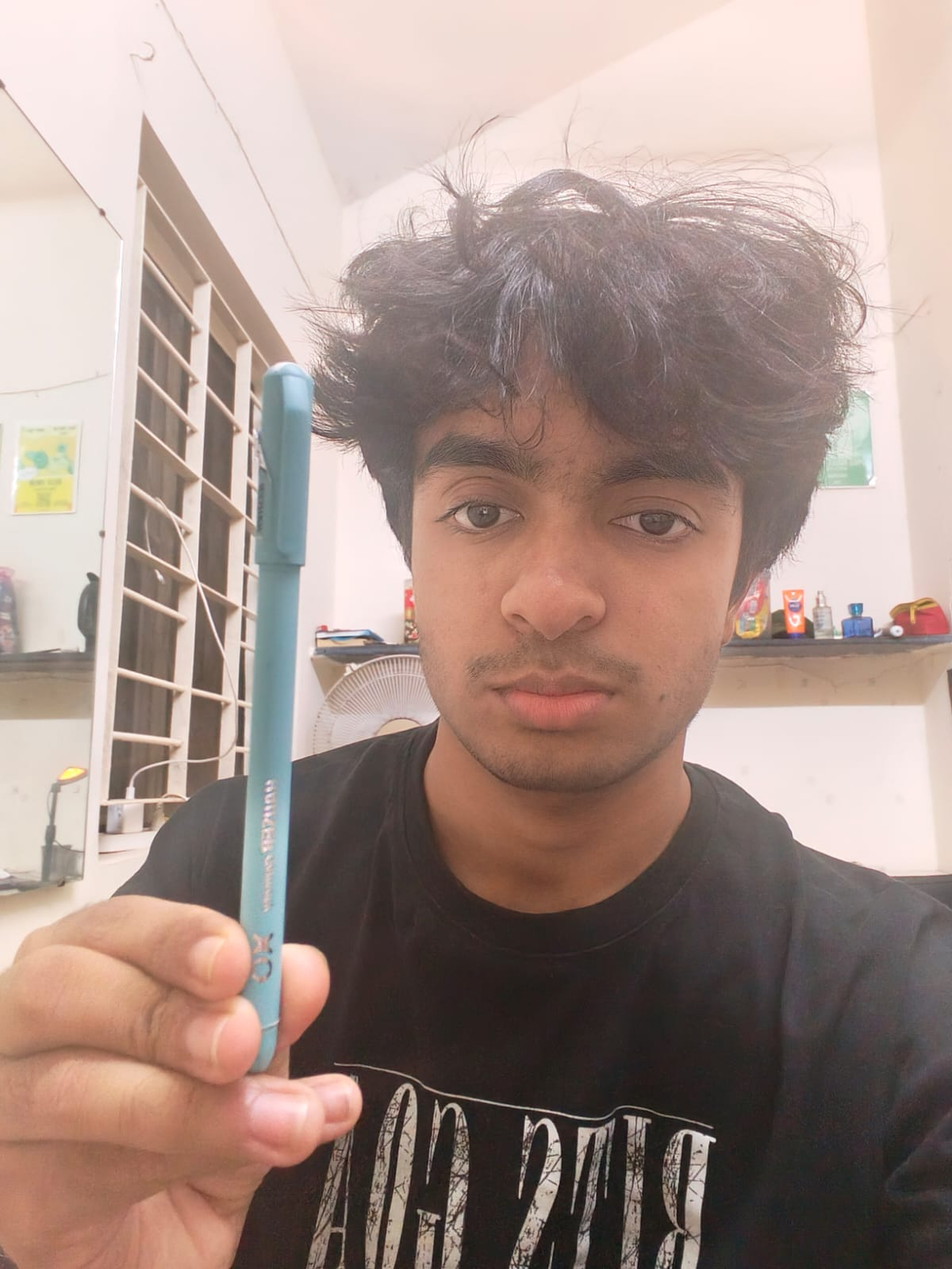pen: (190, 348, 351, 1103)
